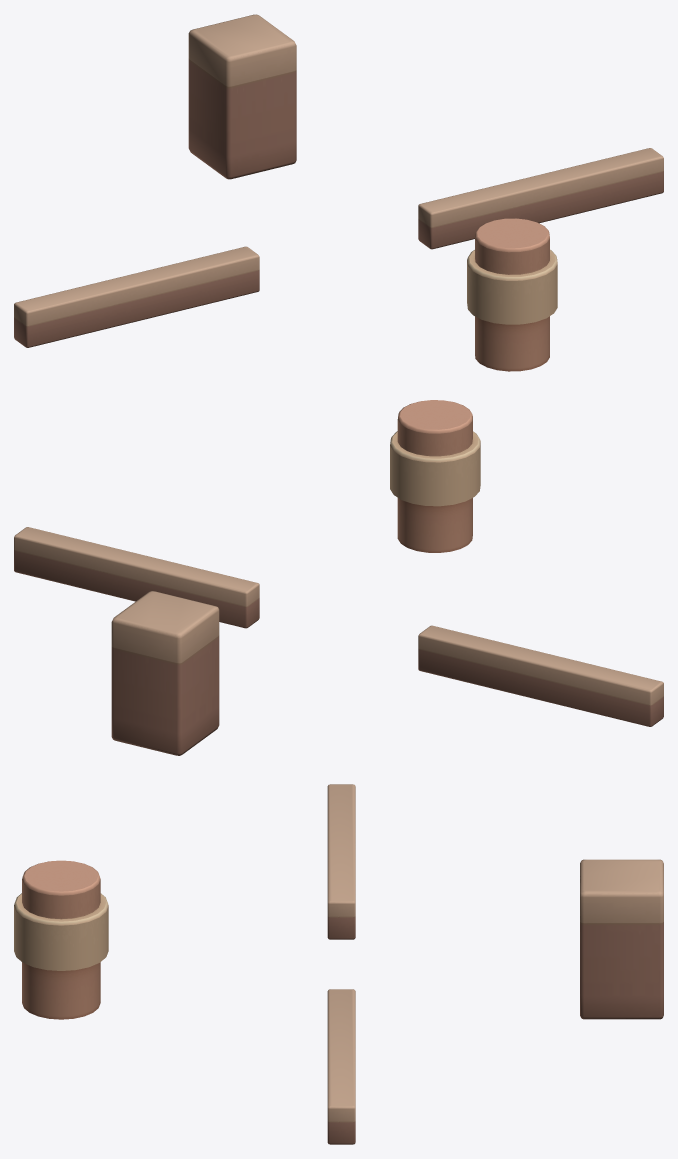
The model's file is Props.fbx.
3 views of the same model, one above another, from view 1: azimuth 30°, elevation 25°; view 2: azimuth 150°, elevation 25°; view 3: azimuth 270°, elevation 25° (orthographic). The views are drawn at different scales.
Visible parts, largest first — view 1: Box03, Cylinder-2, Box20-3_2 (1), Box20-3_2; view 2: Box03, Cylinder-2, Box20-3_2 (1), Box20-3_2; view 3: Box03, Cylinder-2, Box20-3_2, Box20-3_2 (1).
Part boxes in pixels (x1,y1,x2,y2): Box03: (188, 14, 296, 179); Cylinder-2: (467, 218, 557, 371); Box20-3_2 (1): (14, 246, 259, 347); Box20-3_2: (418, 148, 663, 249); Box03: (111, 591, 219, 755); Cylinder-2: (390, 400, 480, 552); Box20-3_2 (1): (418, 625, 663, 726); Box20-3_2: (14, 527, 259, 628); Box03: (580, 859, 663, 1019); Cylinder-2: (14, 860, 108, 1019); Box20-3_2: (327, 989, 355, 1144); Box20-3_2 (1): (327, 784, 355, 939).
Size of the model in its own units: 27.3 by 5.01 by 23.19.
Materials: 2 (2 with a texture image).
